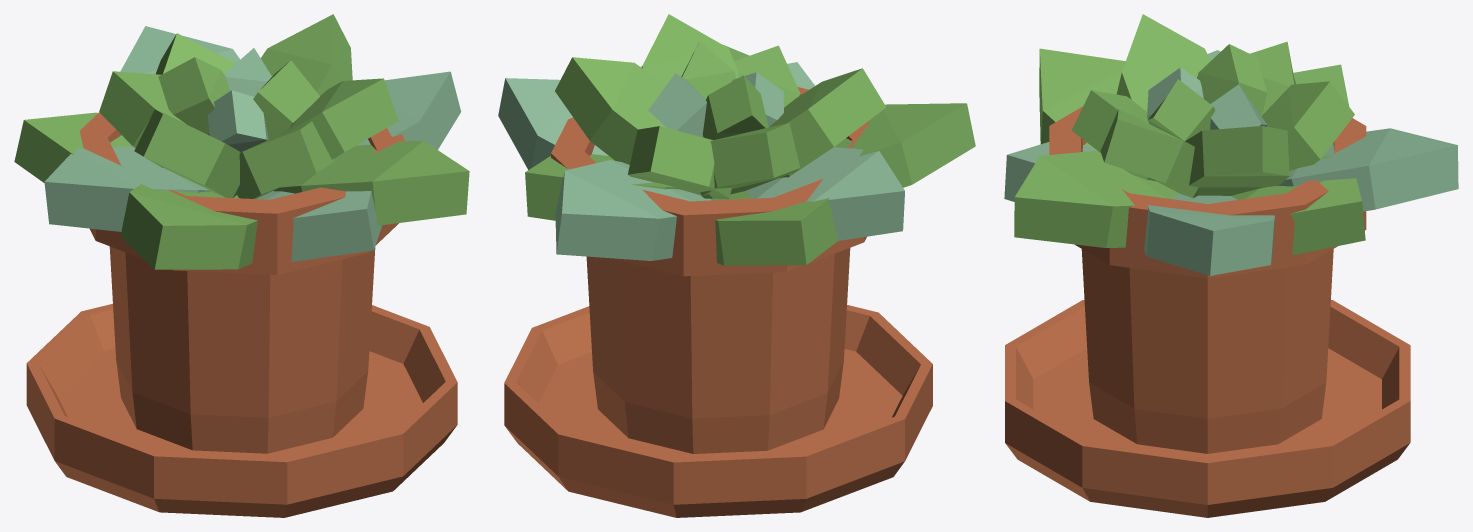
The model's file is SM_LPI_Plant_Succulent_01.fbx.
The picture shows the model from 3 angles, left to right: view 1: azimuth 30°, elevation 25°; view 2: azimuth 150°, elevation 25°; view 3: azimuth 270°, elevation 25°; orthographic projection.
Parts seen in each view (by area): view 1: SM_LPI_Plant_Succulent_01; view 2: SM_LPI_Plant_Succulent_01; view 3: SM_LPI_Plant_Succulent_01.
Boxes of the visible parts, bbox=[...] form: SM_LPI_Plant_Succulent_01: bbox=[14, 14, 469, 517]; SM_LPI_Plant_Succulent_01: bbox=[498, 14, 975, 517]; SM_LPI_Plant_Succulent_01: bbox=[1004, 14, 1458, 517].
Bounding box in the file's own units: 0.1832 × 0.1602 × 0.1772.
